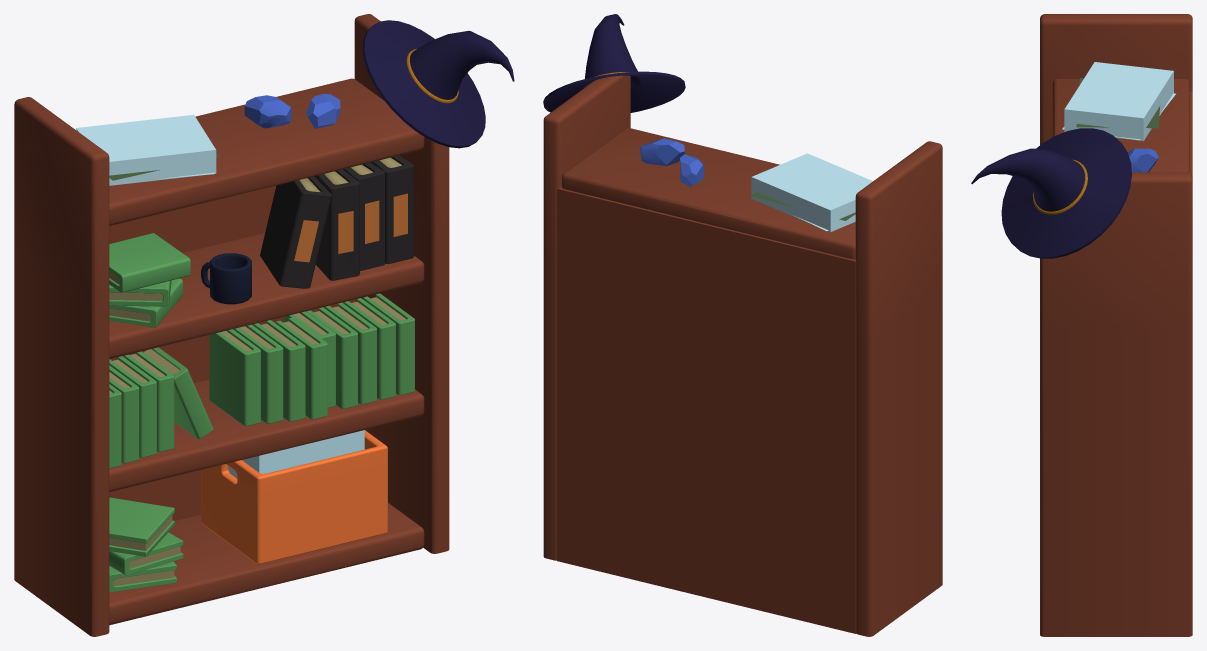
File: Teacher_drawer.fbx
3 views of the same model, side by side, from view 1: azimuth 30°, elevation 25°; view 2: azimuth 150°, elevation 25°; view 3: azimuth 270°, elevation 25° (orthographic). The views are drawn at different scales.
Visible parts, largest first — view 1: Cube.177, Cube.136.frozen.002, Cone, Cube.312, Cube.308, c.005, Cube.313, Cube.190, Cube.191, Cube.189, Cube.184, Cube.317 (+10 smaller); view 2: Cube.177, c.005, Cone, Cube.175, Cube.176; view 3: Cube.177, Cone, c.005, Cube.176.
Boxes of the visible parts, x1,y1,x2,y2 form: Cube.177: (14, 14, 449, 636); Cube.136.frozen.002: (201, 430, 387, 564); Cone: (362, 20, 514, 148); Cube.312: (209, 317, 327, 426); Cube.308: (306, 293, 414, 409); c.005: (76, 114, 216, 185); Cube.313: (109, 351, 174, 468); Cube.190: (343, 155, 413, 270); Cube.191: (260, 176, 331, 288); Cube.189: (314, 169, 359, 280); Cube.184: (109, 233, 190, 292); Cube.317: (109, 497, 174, 556); Cube.177: (543, 75, 942, 636); c.005: (751, 153, 872, 232); Cone: (543, 14, 685, 112); Cube.175: (640, 138, 684, 165); Cube.176: (679, 154, 703, 186); Cube.177: (1040, 14, 1192, 636); Cone: (971, 128, 1131, 258); c.005: (1064, 62, 1173, 140); Cube.176: (1128, 148, 1158, 172).
Bounding box in the file's own units: 164 × 200 × 81.35.
